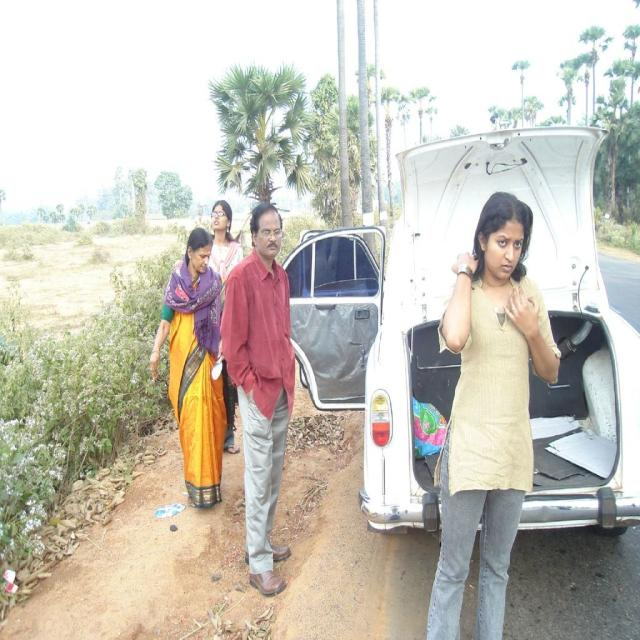car: (278, 128, 639, 529)
